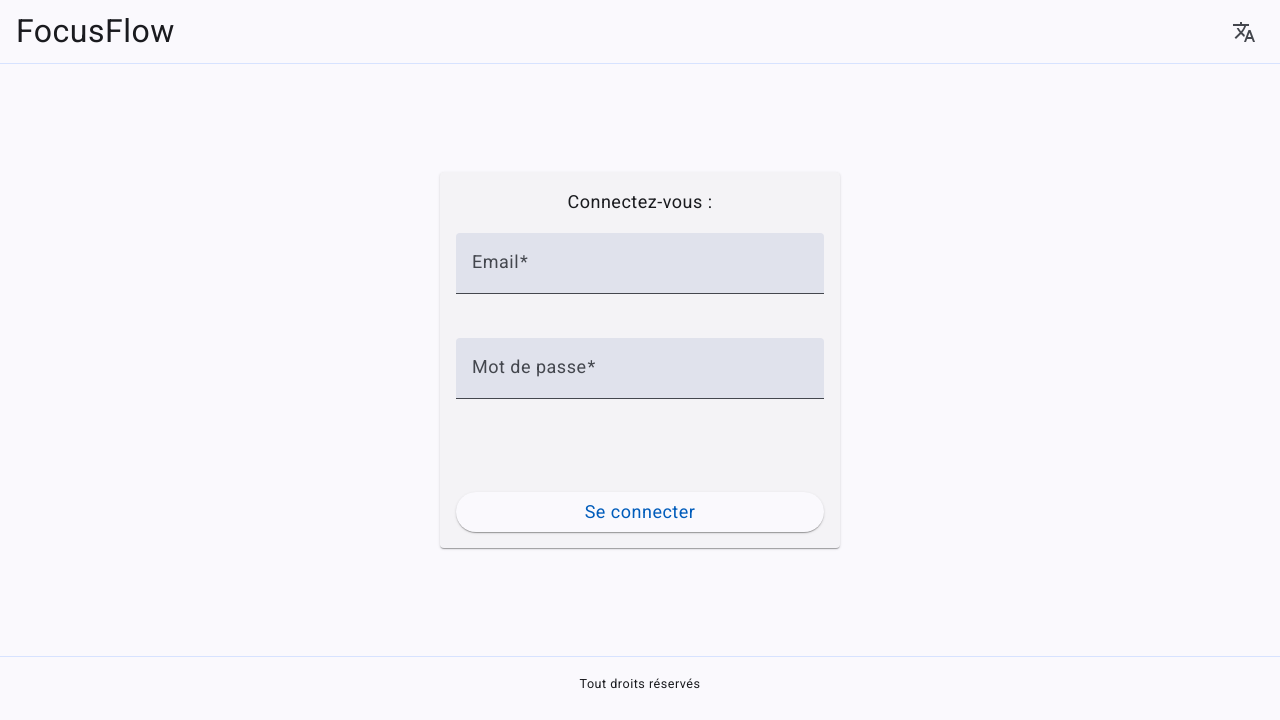
Test: Login Page Tests › should display error message required
Click the button with test id "login-submit" at (640, 512), box [456,492,824,532]
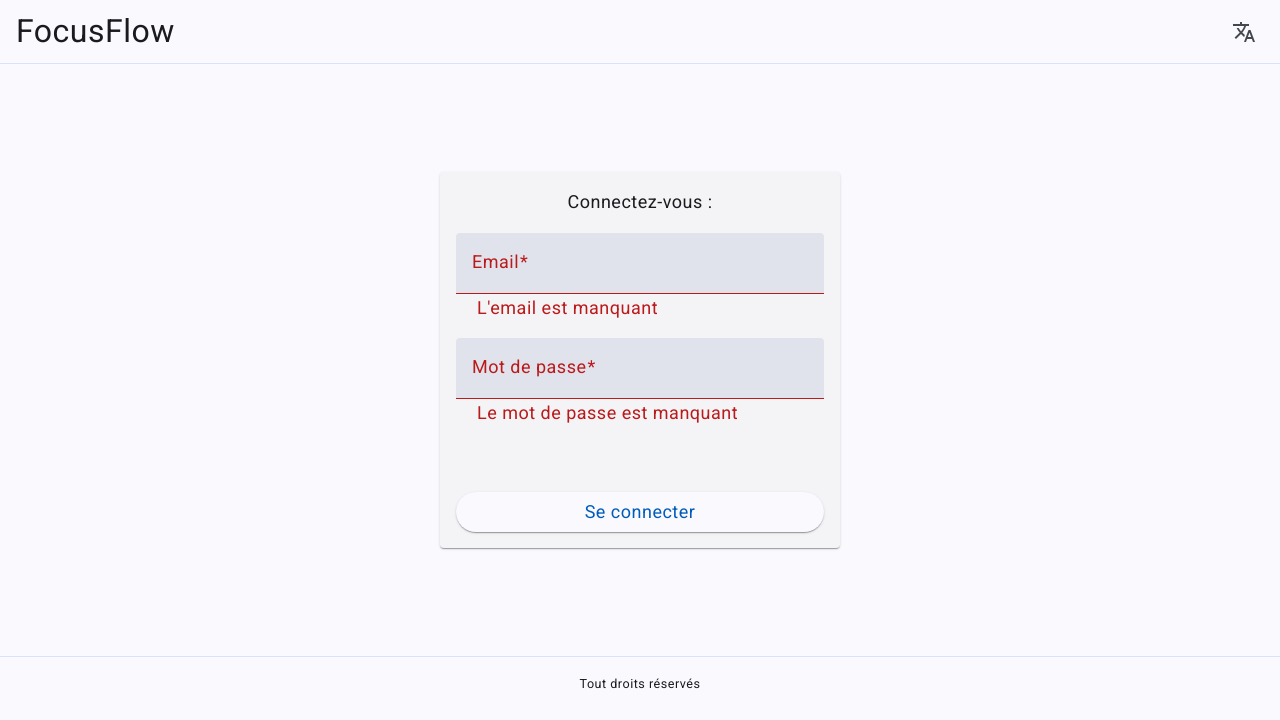
Result: the text "L'email est manquant" is shown at [472,297,658,318]
Result: the text "Le mot de passe est manquant" is shown at [472,402,738,423]
